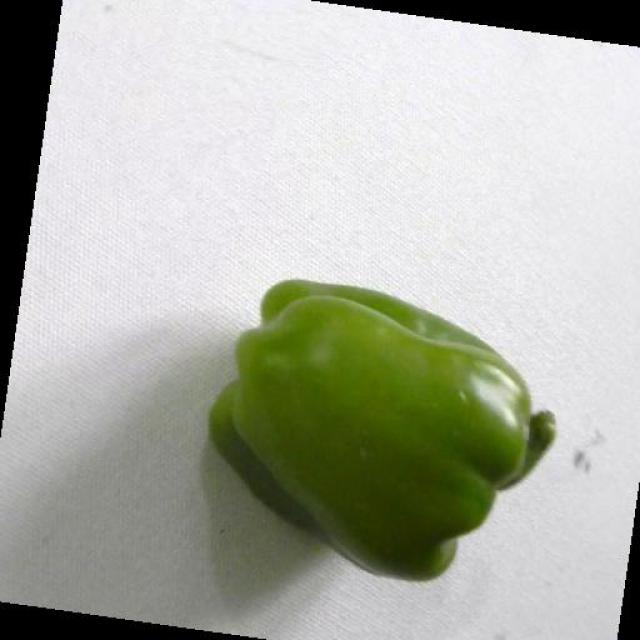Fresh_Capsicum: (189, 264, 552, 544)
